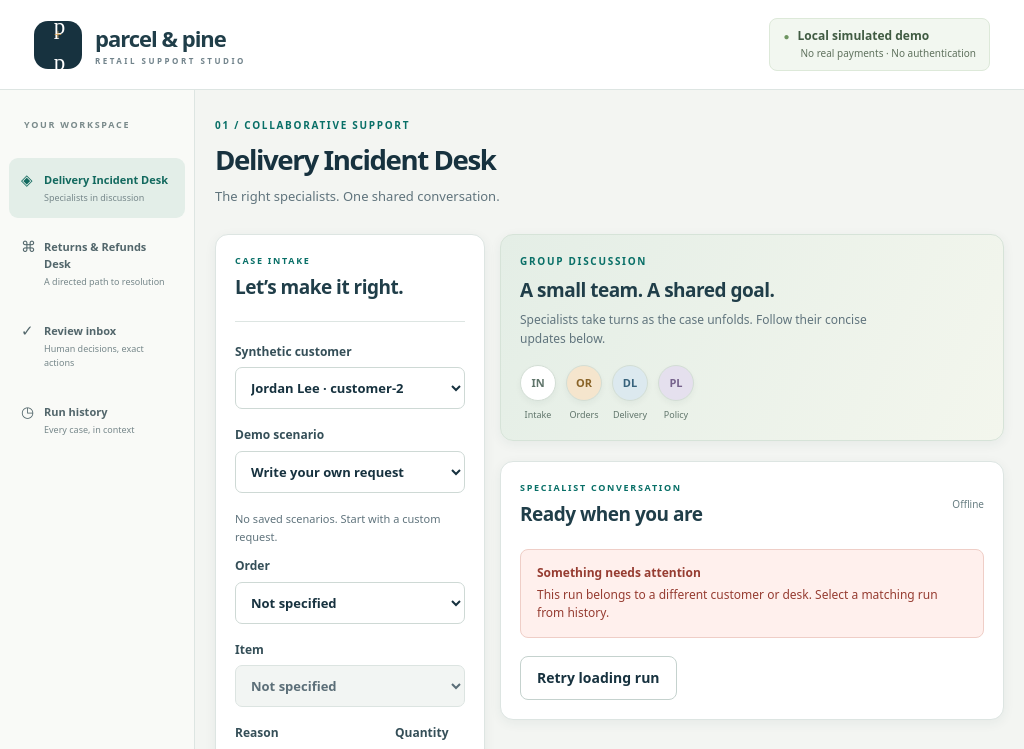
Test: never displays a saved run belonging to another customer and isolates desk selection
Expected: the text "This run belongs to a different customer" is shown, x1=537 y1=586 x2=938 y2=621
Click the link "⌘ Returns & Refunds Desk A directed path to resolution".
click(95, 246)  # box x1=21 y1=236 x2=165 y2=288
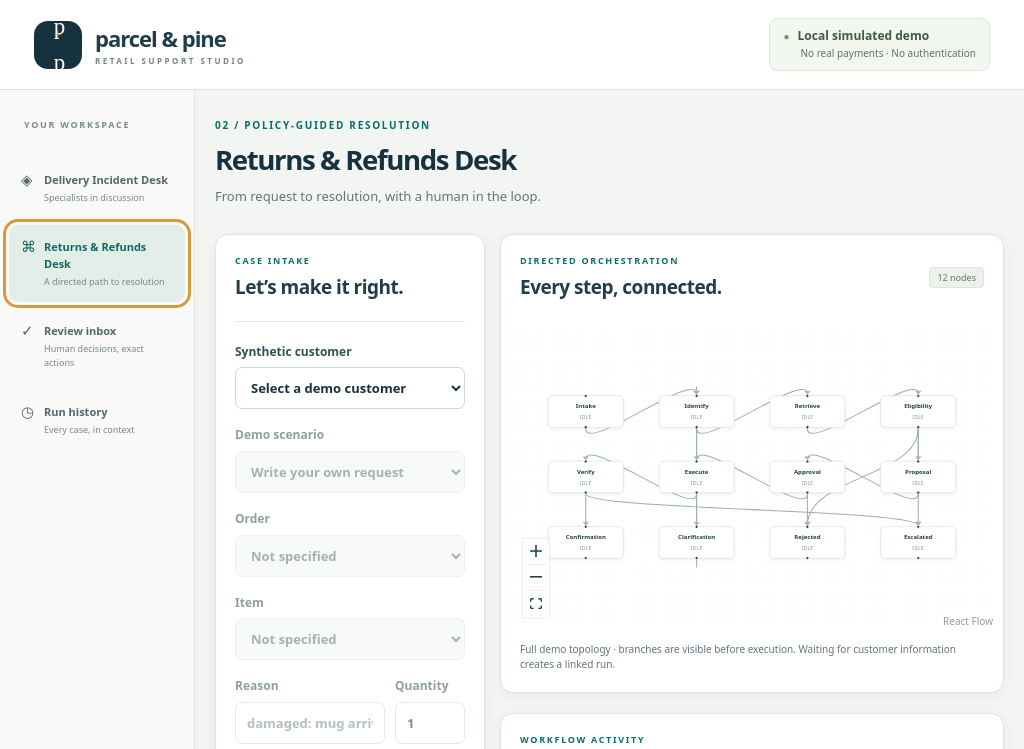
Expected: the dropdown labelled "Synthetic customer" shows "Select a demo customer", x1=235 y1=367 x2=465 y2=409
Expected: the element named "Returns directed workflow" is shown, x1=500 y1=234 x2=1004 y2=693
Click the link "◈ Delivery Incident Desk Specialists in discussion".
click(94, 186)  # box x1=21 y1=169 x2=168 y2=204
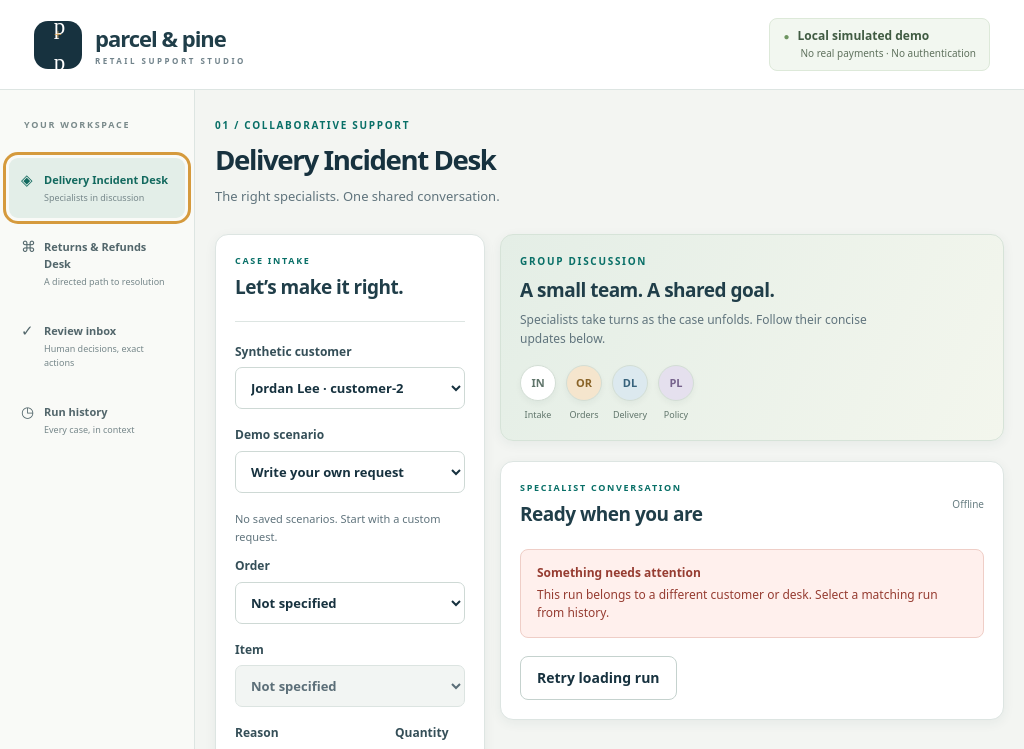
Expected: the dropdown labelled "Synthetic customer" shows "Jordan Lee · customer-2", x1=235 y1=367 x2=465 y2=409
